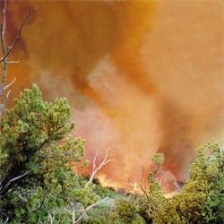fire: (85, 170, 181, 206)
smoke: (70, 31, 202, 159)
